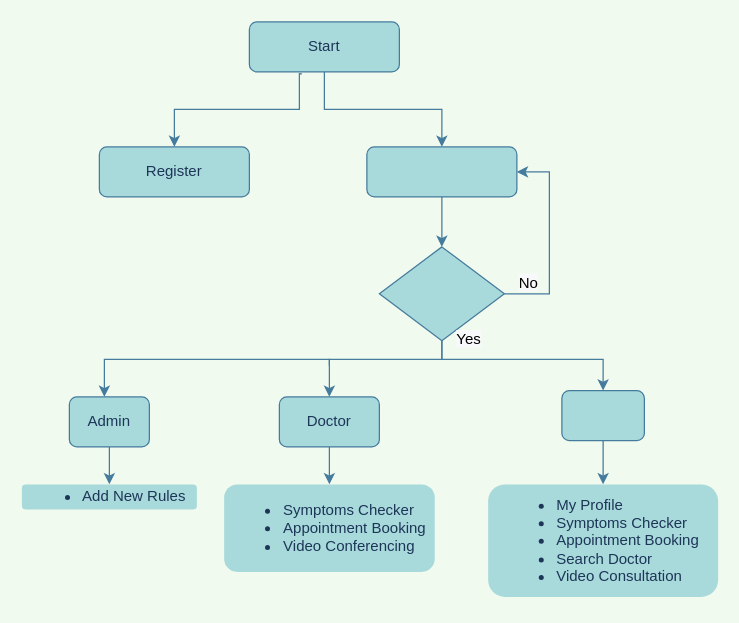
Image size: 739x623. Some labels were removed from this diagram. Each missing label, with the centre of its shape:
Login: point 441,171
Successful: point 441,293
User: point 602,415
